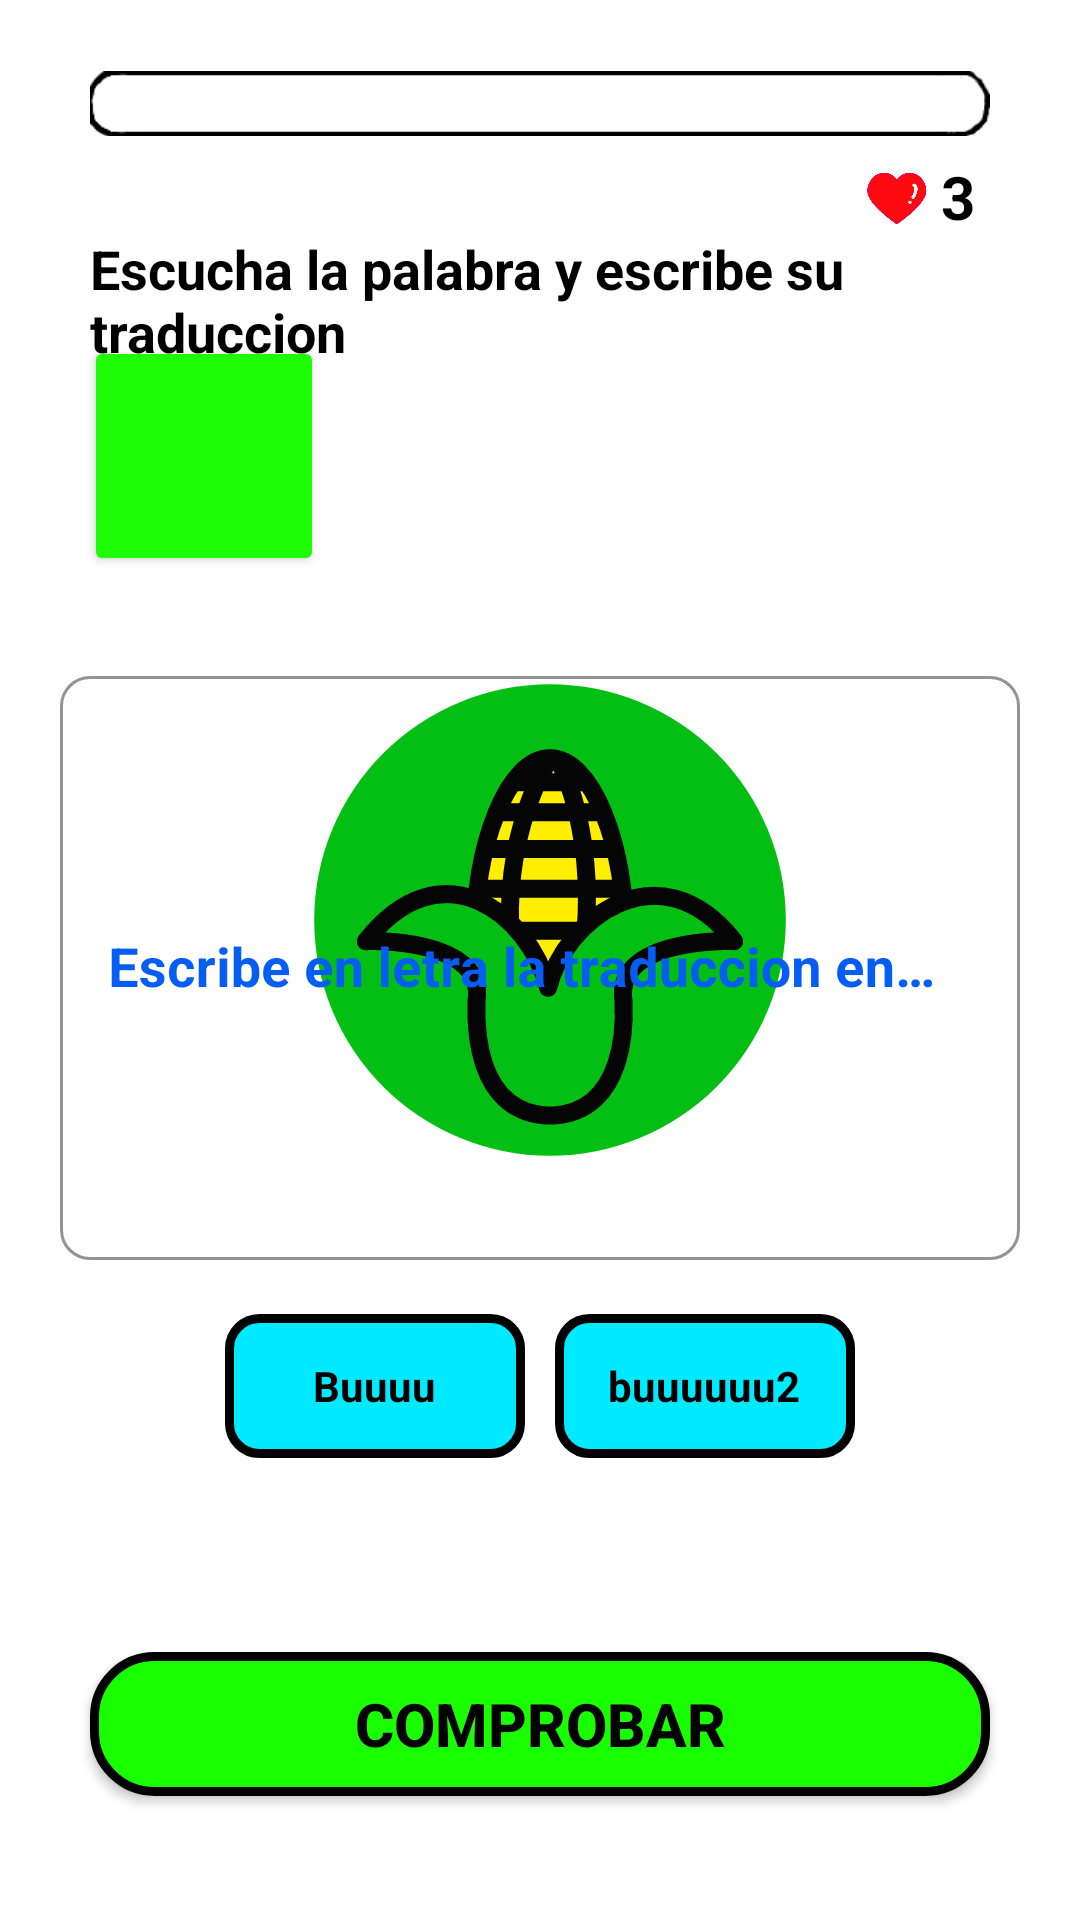

Icons on this 1080*1920 Android screen, each with the point to tap as [x,y]:
heart: [897,198]
